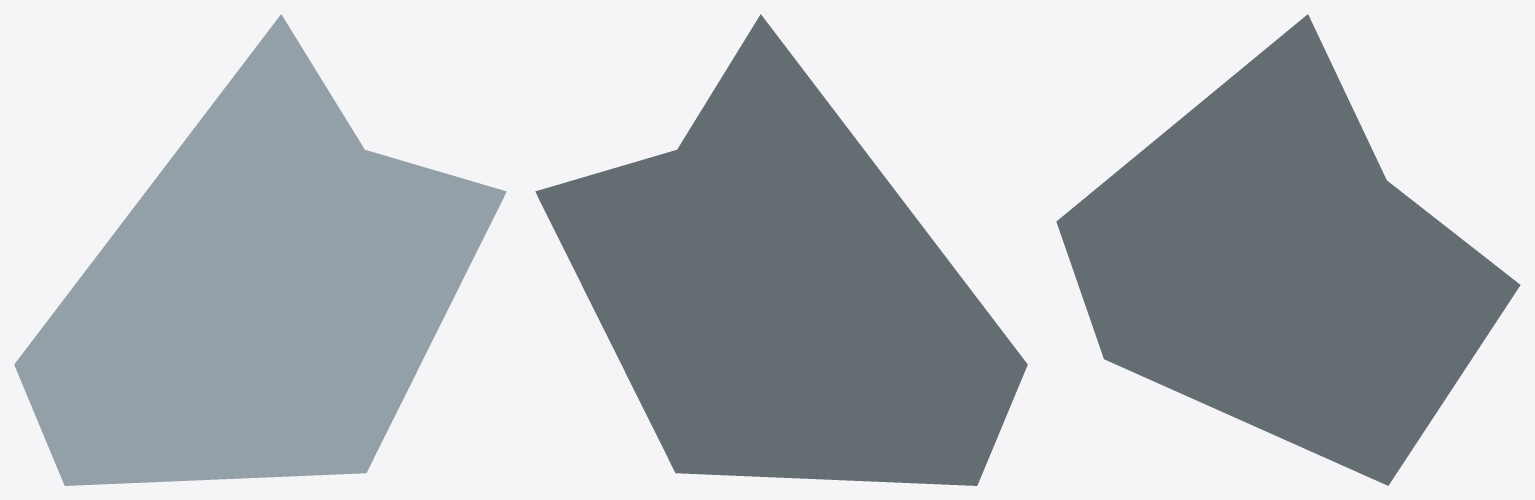
3 views of the same model, side by side, from view 1: azimuth 30°, elevation 25°; view 2: azimuth 150°, elevation 25°; view 3: azimuth 330°, elevation 25° (orthographic). The views are drawn at different scales.
Visible parts, largest first — view 1: pCube22; view 2: pCube22; view 3: pCube22.
Boxes of the visible parts, box(x1,y1,x2,y2) form: pCube22: box(14, 14, 506, 485); pCube22: box(535, 14, 1027, 485); pCube22: box(1056, 14, 1520, 485).
Size of the model in its own units: 46.57 by 43.36 by 0.
